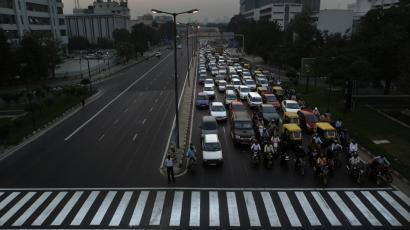car: (199, 51, 239, 83), (197, 130, 226, 170), (230, 113, 254, 144), (314, 120, 338, 147), (299, 105, 321, 133), (260, 101, 281, 126), (282, 97, 303, 120), (207, 101, 227, 122), (281, 123, 302, 143), (227, 100, 246, 119), (201, 81, 219, 101), (262, 90, 282, 108), (221, 83, 237, 102), (242, 69, 257, 86), (250, 90, 262, 108), (240, 85, 253, 100), (228, 74, 241, 86)
motocar: (367, 147, 392, 188), (348, 146, 364, 183), (333, 139, 348, 174), (314, 150, 331, 180), (248, 140, 263, 165), (264, 137, 275, 165), (270, 130, 280, 152)
